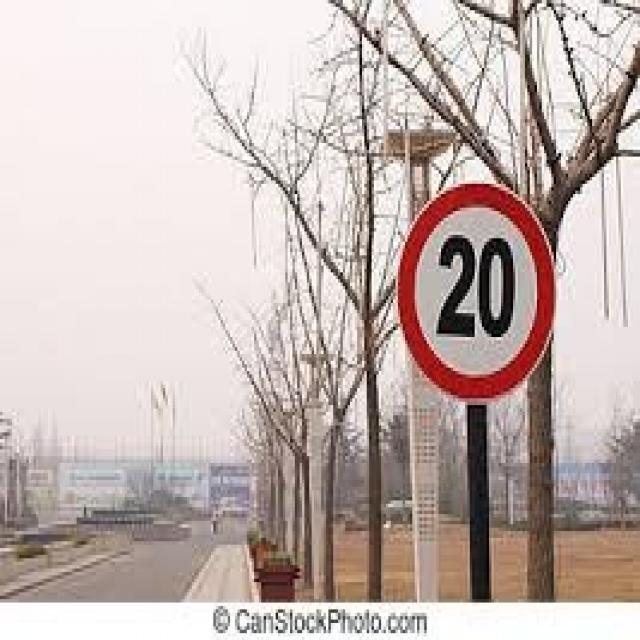speed_limit_20: (396, 174, 563, 406)
